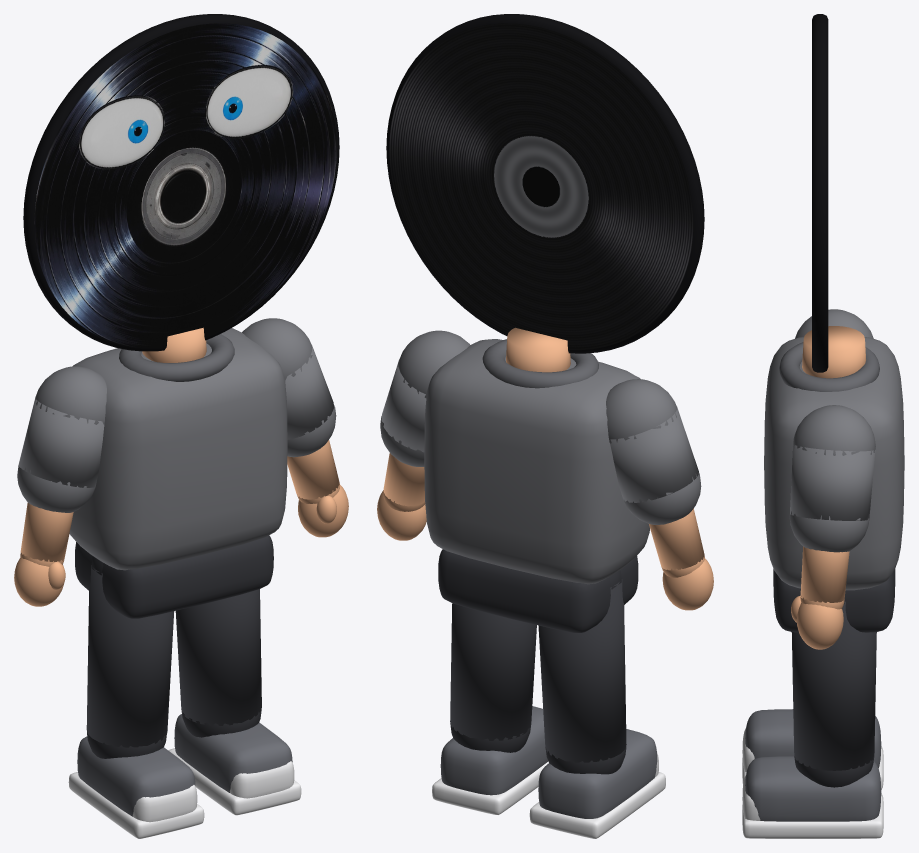
Rendered from vinylman.glb.
3 views of the same model, side by side, from view 1: azimuth 30°, elevation 25°; view 2: azimuth 150°, elevation 25°; view 3: azimuth 270°, elevation 25° (orthographic).
Visible parts, largest first — view 1: head, torso, legR, legL, armR, armL; view 2: head, torso, legR, legL, armR, armL; view 3: torso, legL, armL, head, legR, armR.
Part boxes in pixels (bbox=[...]): head: bbox=[23, 14, 339, 351]; torso: bbox=[69, 327, 287, 618]; legR: bbox=[68, 556, 204, 838]; legL: bbox=[168, 589, 301, 815]; armR: bbox=[14, 366, 106, 606]; armL: bbox=[242, 318, 348, 537]; head: bbox=[386, 14, 704, 353]; torso: bbox=[424, 327, 649, 632]; legR: bbox=[529, 570, 665, 838]; legL: bbox=[432, 603, 548, 814]; armR: bbox=[606, 379, 713, 610]; armL: bbox=[377, 330, 469, 540]; torso: bbox=[764, 326, 904, 632]; legL: bbox=[742, 594, 883, 838]; armL: bbox=[789, 405, 875, 649]; head: bbox=[812, 14, 828, 372]; legR: bbox=[742, 709, 883, 789]; armR: bbox=[795, 309, 873, 338].
Size of the model in its own units: 0.8 by 1.8 by 0.3438.
9 materials, 2 textured.
